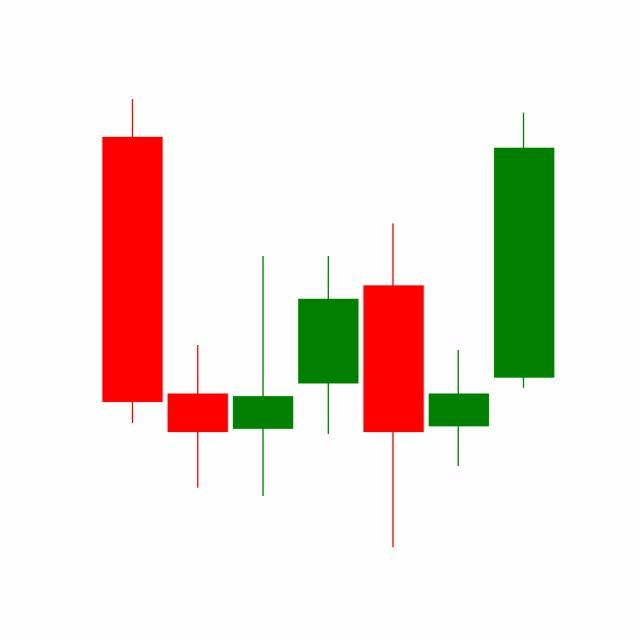Three Inside Up-Down: (360, 108, 556, 549)
